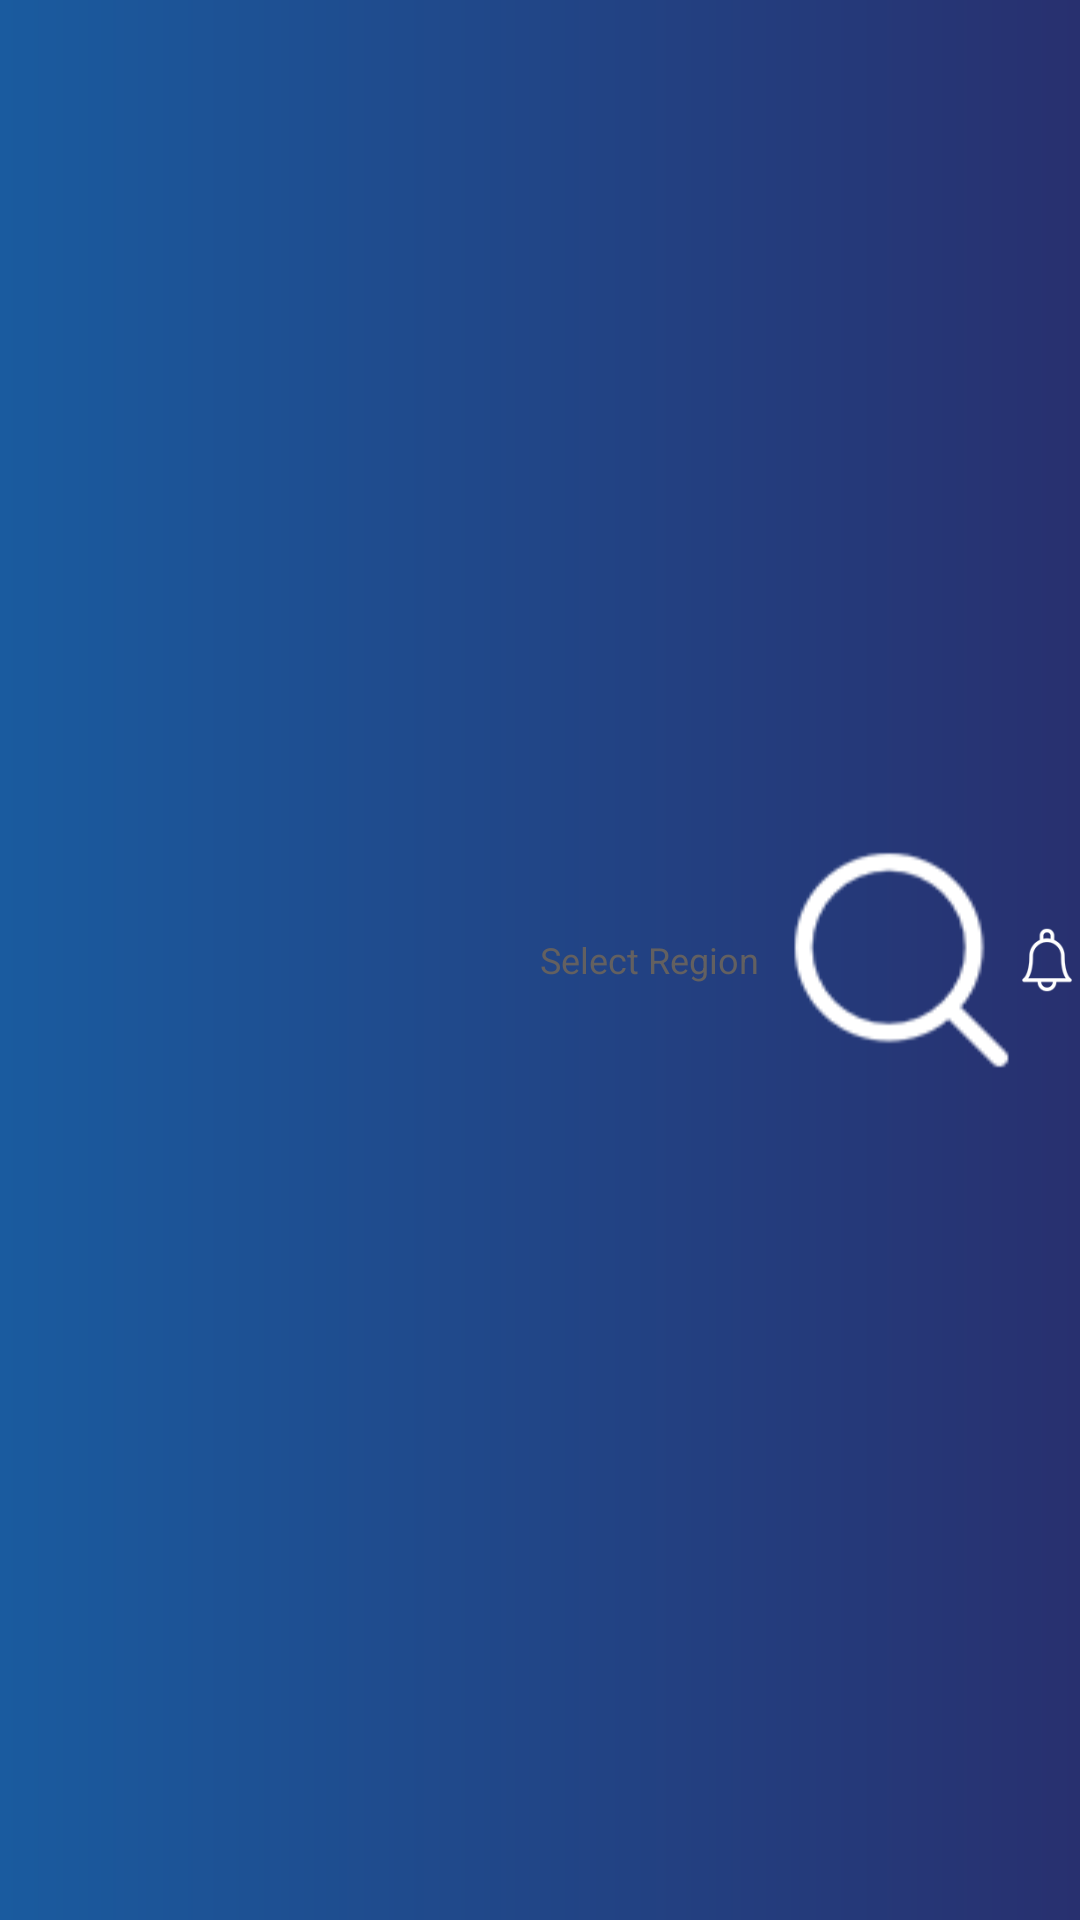

Where to tap for icons on this 1080 × 1920 app screen, as (x,y):
bell: (1047,960)
search: (901,960)
